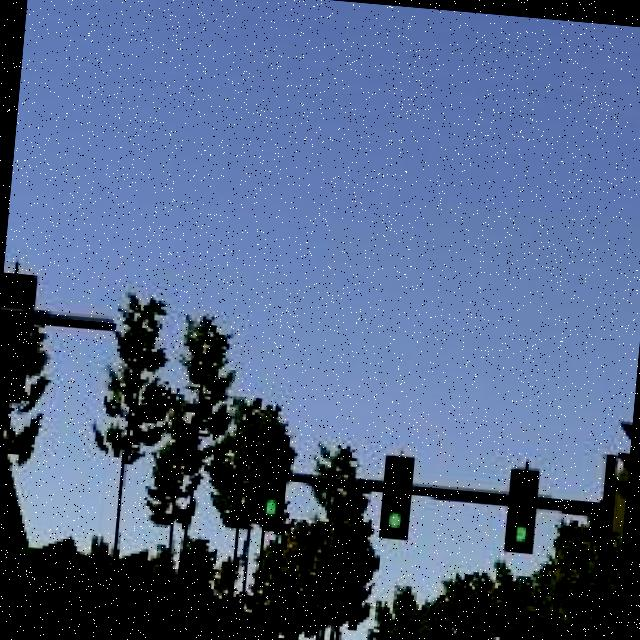Zielone swiatlo: (376, 455, 418, 541), (506, 466, 540, 554), (258, 442, 290, 532)
